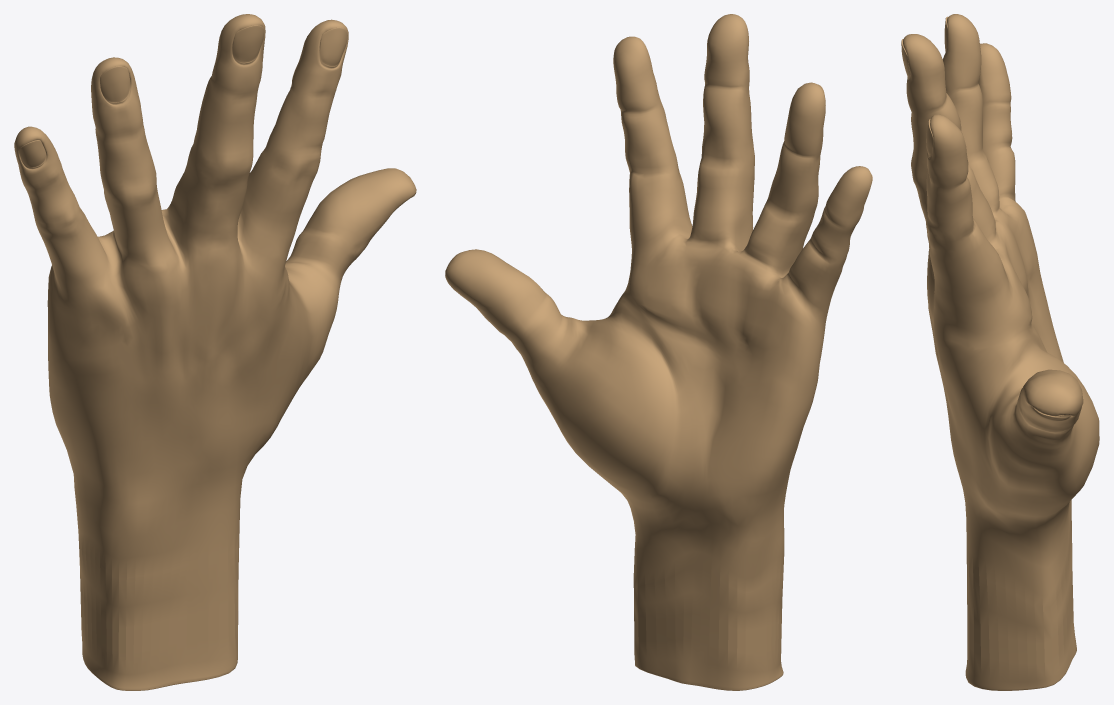
The model's file is SM_VFX_WaterHand.fbx.
3 renders of one model, left to right at view 1: azimuth 30°, elevation 25°; view 2: azimuth 150°, elevation 25°; view 3: azimuth 270°, elevation 25°, orthographic. The views are drawn at different scales.
Parts seen in each view (by area): view 1: SM_VFX_WaterHand; view 2: SM_VFX_WaterHand; view 3: SM_VFX_WaterHand.
Boxes of the visible parts, <box> form: SM_VFX_WaterHand: <box>14,14,416,690</box>; SM_VFX_WaterHand: <box>445,14,872,690</box>; SM_VFX_WaterHand: <box>901,14,1099,690</box>.
Size of the model in its own units: 17.63 by 26.69 by 7.46.
